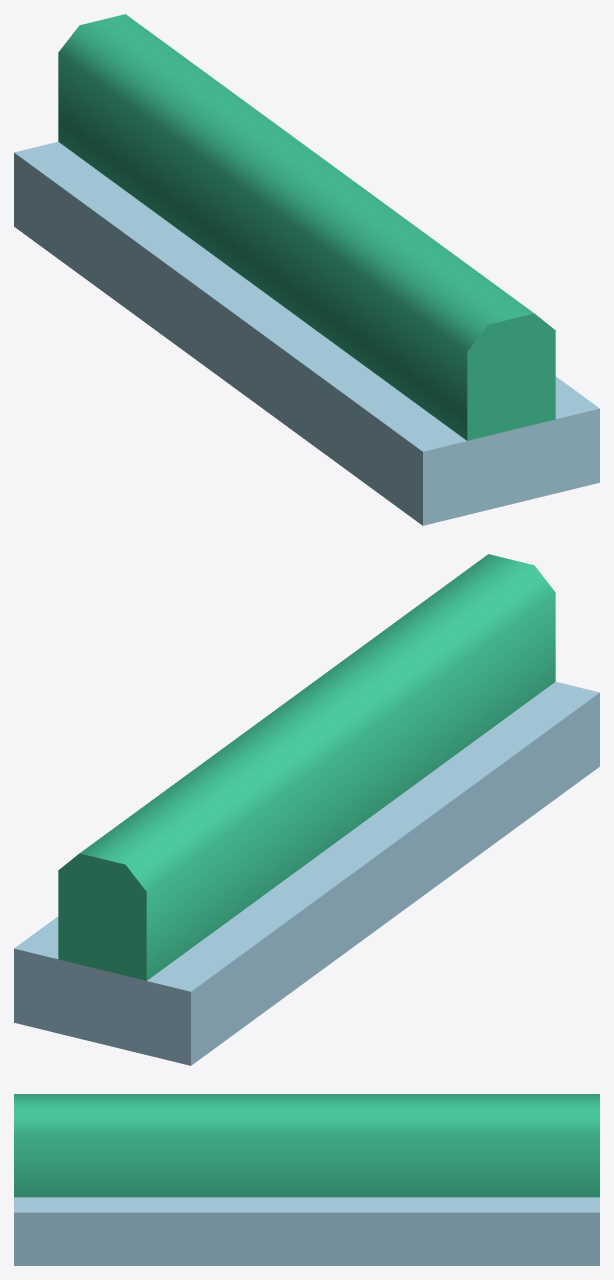
File: hedge.glb
The picture shows the model from 3 angles, top to bottom: view 1: azimuth 30°, elevation 25°; view 2: azimuth 150°, elevation 25°; view 3: azimuth 270°, elevation 25°; orthographic projection. The views are drawn at different scales.
Parts seen in each view (by area): view 1: hedge; view 2: hedge; view 3: hedge.
Part boxes in pixels (bbox=[...]): hedge: bbox=[14, 14, 599, 525]; hedge: bbox=[14, 554, 599, 1065]; hedge: bbox=[14, 1094, 599, 1265].
Bounding box in the file's own units: 0.75 × 0.75 × 3.
